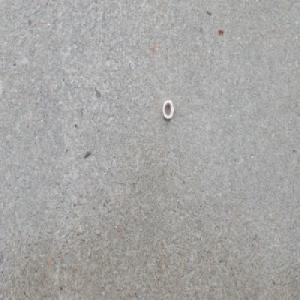Nut: (161, 100, 173, 122)
